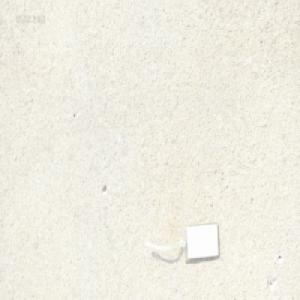LuggageTag: (142, 220, 219, 262)
